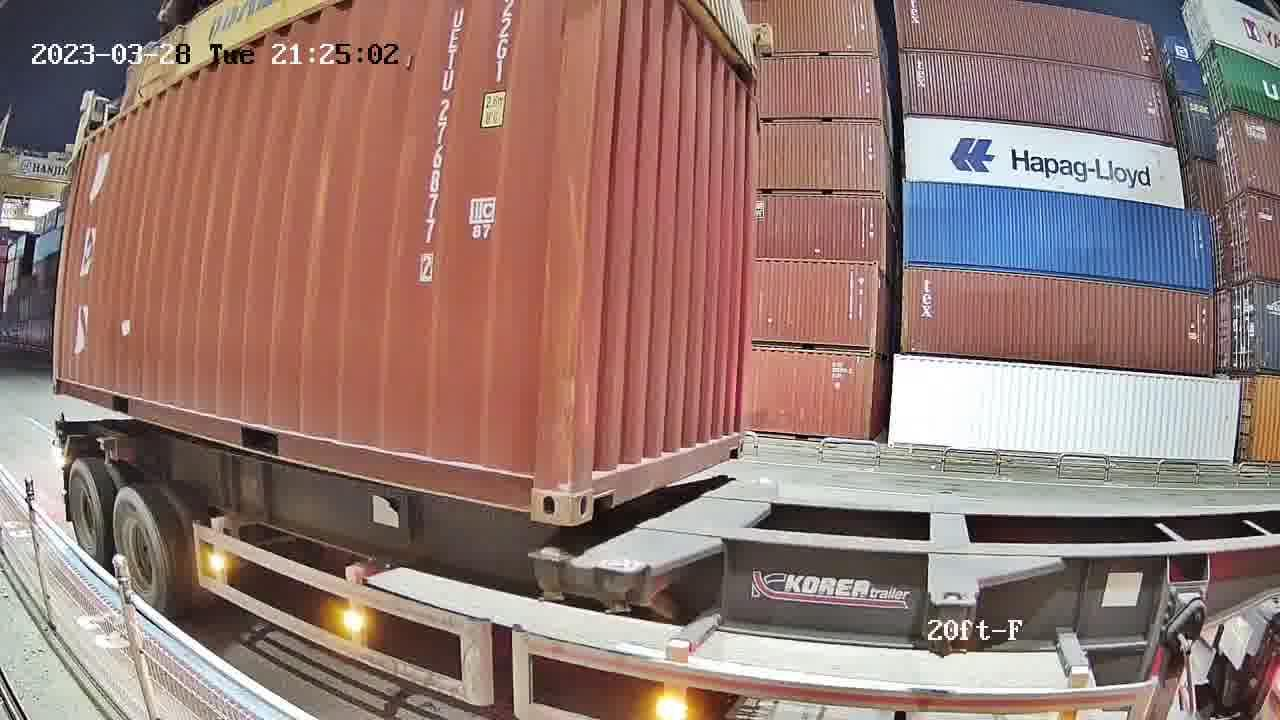Chassis: (535, 478, 731, 562), (602, 479, 774, 572)
Cone: (598, 558, 648, 618), (532, 546, 571, 605)
Hole_L: (570, 440, 623, 526)
Hole_R: (493, 443, 573, 524), (718, 425, 744, 462)
Tire: (112, 486, 171, 613), (66, 463, 103, 563)
